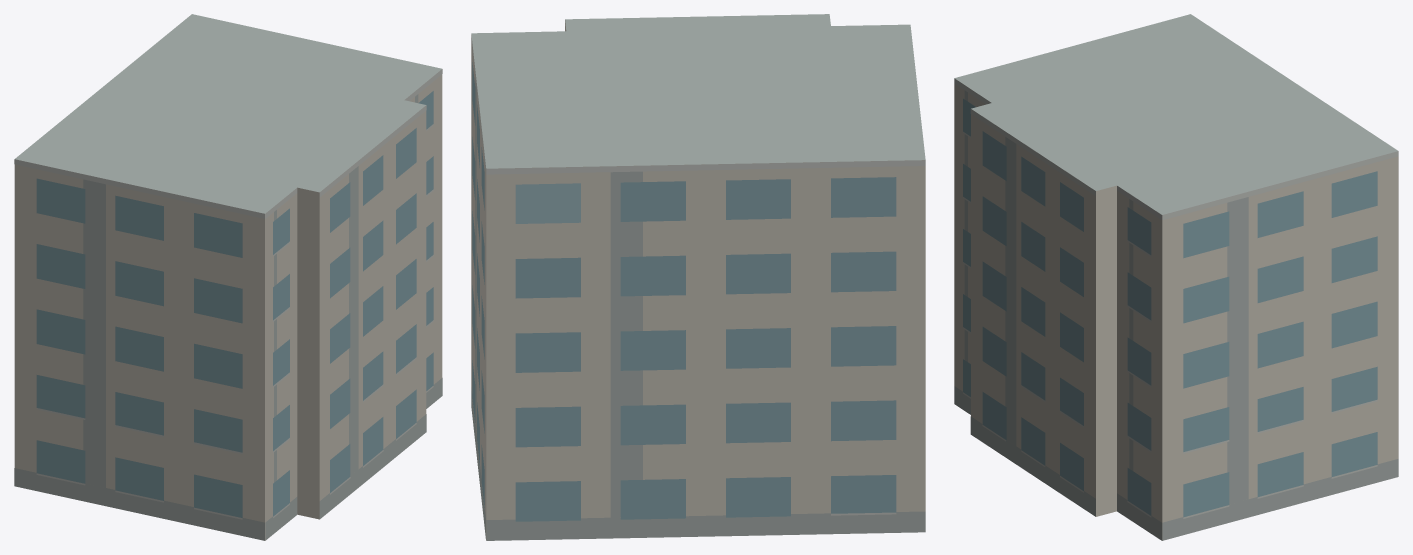
File: residential-70eb19e6-449e-4eab-8941-a863d6a55542.glb
3 views of the same model, side by side, from view 1: azimuth 30°, elevation 25°; view 2: azimuth 150°, elevation 25°; view 3: azimuth 270°, elevation 25° (orthographic). The views are drawn at different scales.
Parts seen in each view (by area): view 1: residential-70eb19e6-449e-4eab-8941-a863d6a55542.tmp; view 2: residential-70eb19e6-449e-4eab-8941-a863d6a55542.tmp; view 3: residential-70eb19e6-449e-4eab-8941-a863d6a55542.tmp.
Part boxes in pixels (x1,y1,x2,y2): residential-70eb19e6-449e-4eab-8941-a863d6a55542.tmp: (14, 14, 442, 540); residential-70eb19e6-449e-4eab-8941-a863d6a55542.tmp: (471, 14, 925, 540); residential-70eb19e6-449e-4eab-8941-a863d6a55542.tmp: (954, 14, 1398, 540).
Bounding box in the file's own units: 20.19 × 15.25 × 18.86.
